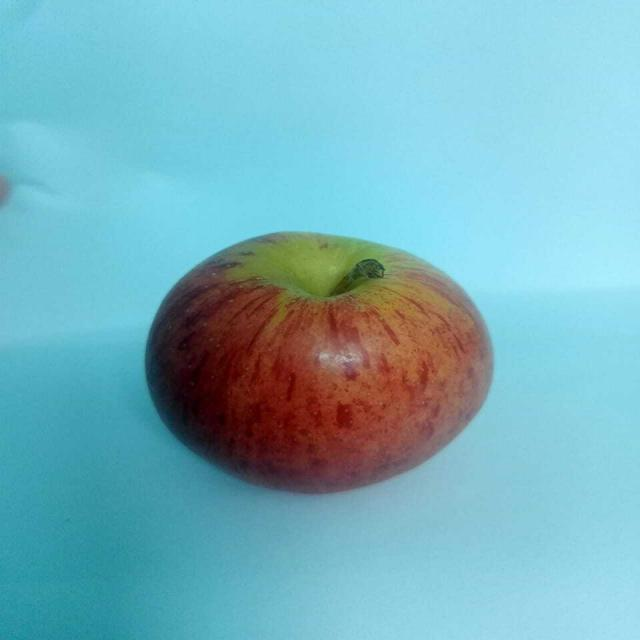fresh_apple: (142, 231, 494, 495)
